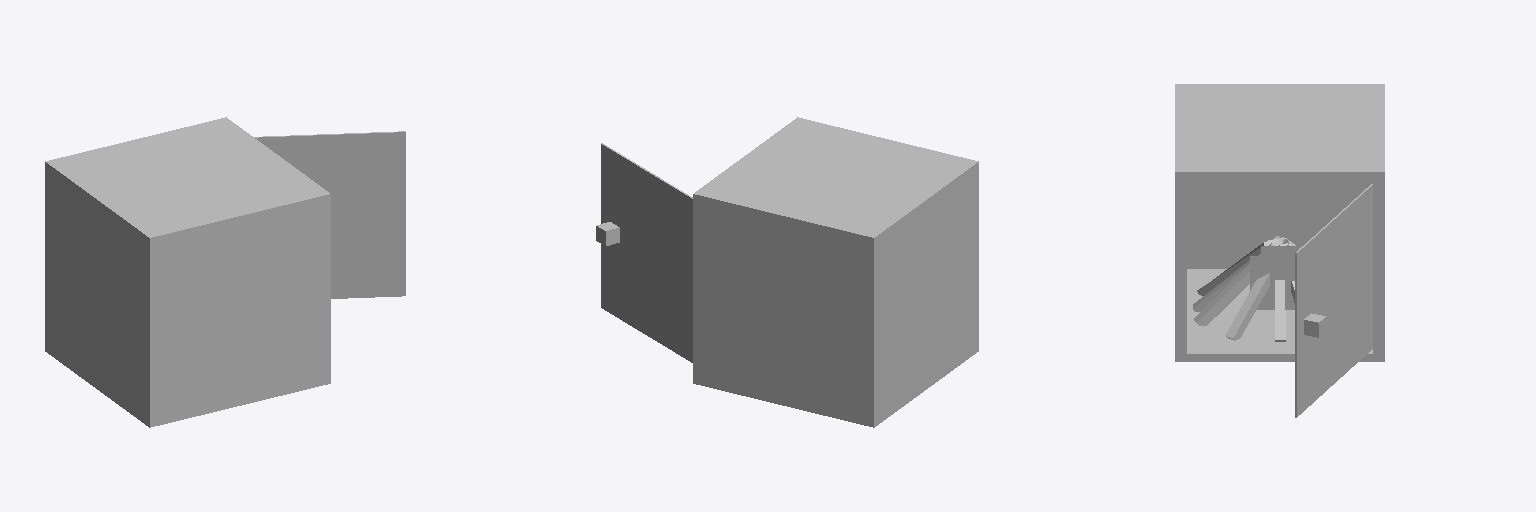
The model's file is cooking_firebox_open_burn.obj.
3 views of the same model, side by side, from view 1: azimuth 30°, elevation 25°; view 2: azimuth 150°, elevation 25°; view 3: azimuth 270°, elevation 25° (orthographic).
Visible parts, largest first — view 1: Box_Cube.001, Door_Cube.002; view 2: Box_Cube.001, Door_Cube.002; view 3: Box_Cube.001, Door_Cube.002, Sticks, Fire.
Boxes of the visible parts, x1,y1,x2,y2 form: Box_Cube.001: [45, 117, 330, 427]; Door_Cube.002: [254, 131, 405, 298]; Box_Cube.001: [693, 117, 978, 427]; Door_Cube.002: [601, 143, 692, 362]; Box_Cube.001: [1175, 84, 1384, 361]; Door_Cube.002: [1295, 184, 1372, 417]; Sticks: [1193, 236, 1299, 341]; Fire: [1250, 229, 1309, 309].
Bounding box in the file's own units: 1.75 × 1 × 1.